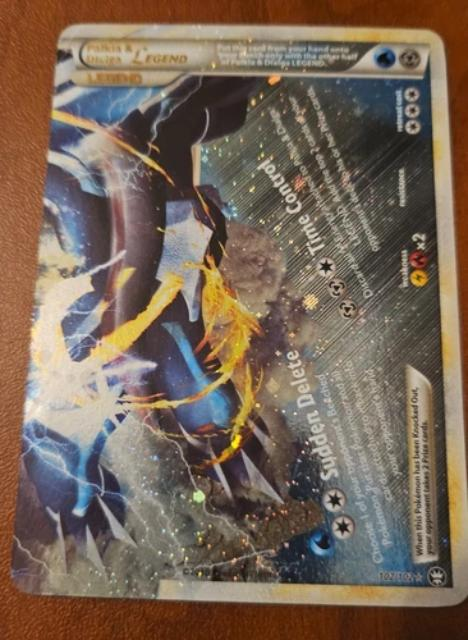Card: (2, 18, 467, 610)
Name: (76, 36, 203, 70)
